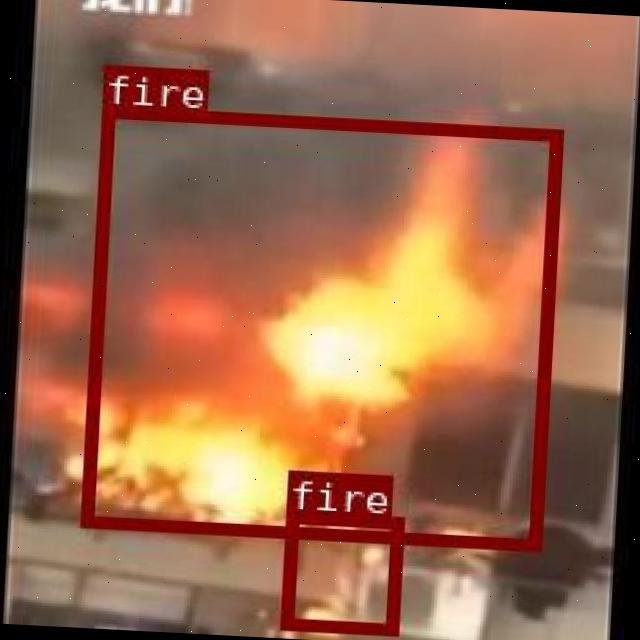fire: (78, 105, 560, 549), (278, 510, 402, 634)
